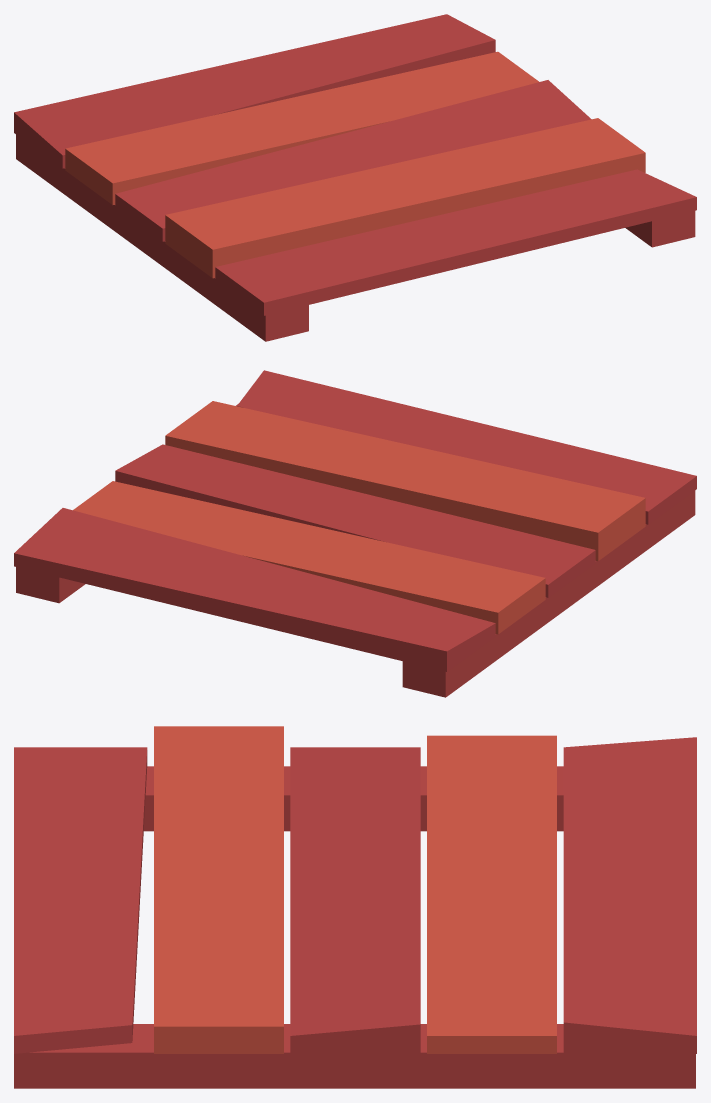
The model's file is PortWoodFloor_A.fbx.
The picture shows the model from 3 angles, top to bottom: view 1: azimuth 30°, elevation 25°; view 2: azimuth 150°, elevation 25°; view 3: azimuth 270°, elevation 25°; orthographic projection. The views are drawn at different scales.
Visible parts, largest first — view 1: PortWoodFloor_A; view 2: PortWoodFloor_A; view 3: PortWoodFloor_A.
Boxes of the visible parts, x1,y1,x2,y2 form: PortWoodFloor_A: (14, 14, 696, 341); PortWoodFloor_A: (14, 370, 696, 697); PortWoodFloor_A: (14, 726, 696, 1088).
Size of the model in its own units: 94.89 by 11.51 by 94.89.
Materials: 1 (1 with a texture image).
